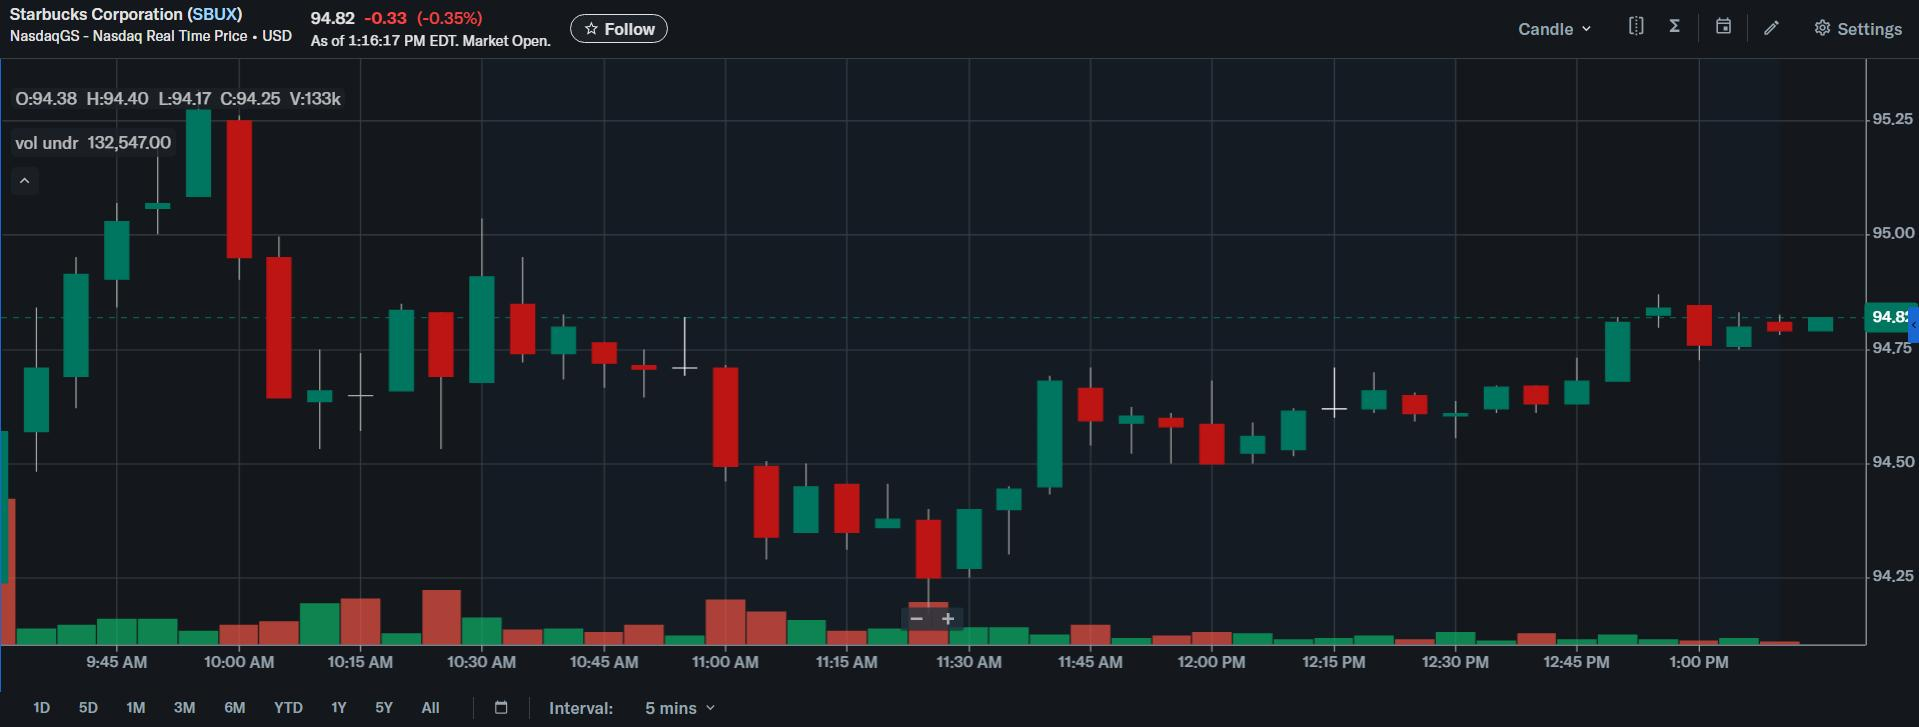Downtrend: (188, 106, 361, 449), (656, 296, 802, 575)
Sideways: (1114, 356, 1604, 482)
Uptrend: (10, 170, 159, 477)
